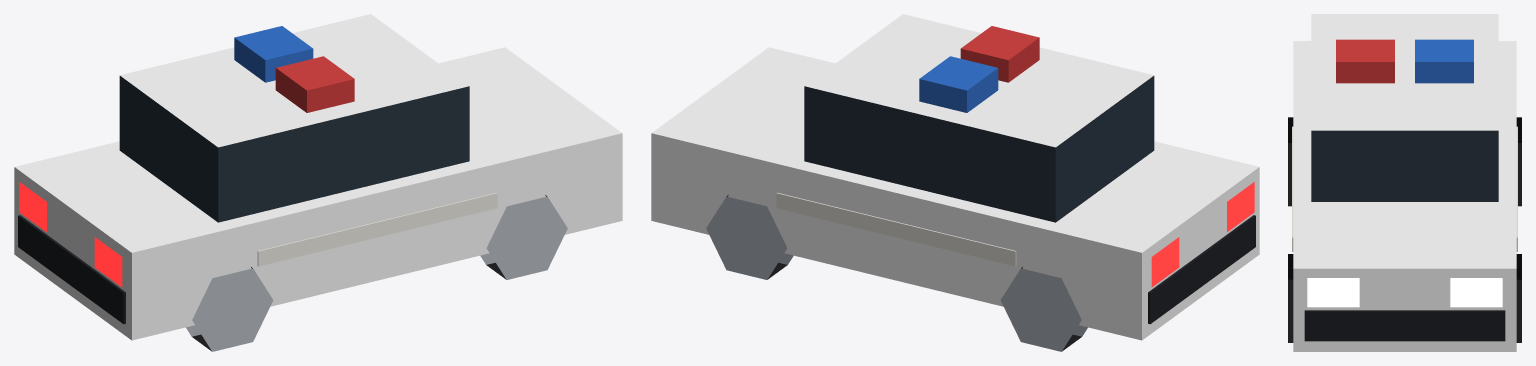
Rendered from car_police.glb.
The picture shows the model from 3 angles, left to right: view 1: azimuth 30°, elevation 25°; view 2: azimuth 150°, elevation 25°; view 3: azimuth 270°, elevation 25°; orthographic projection. The views are drawn at different scales.
Visible parts, largest first — view 1: car_police; view 2: car_police; view 3: car_police.
Boxes of the visible parts, x1,y1,x2,y2 form: car_police: [14, 14, 622, 351]; car_police: [651, 14, 1259, 351]; car_police: [1288, 14, 1521, 351].
Bounding box in the file's own units: 0.414 × 0.1706 × 0.178.
